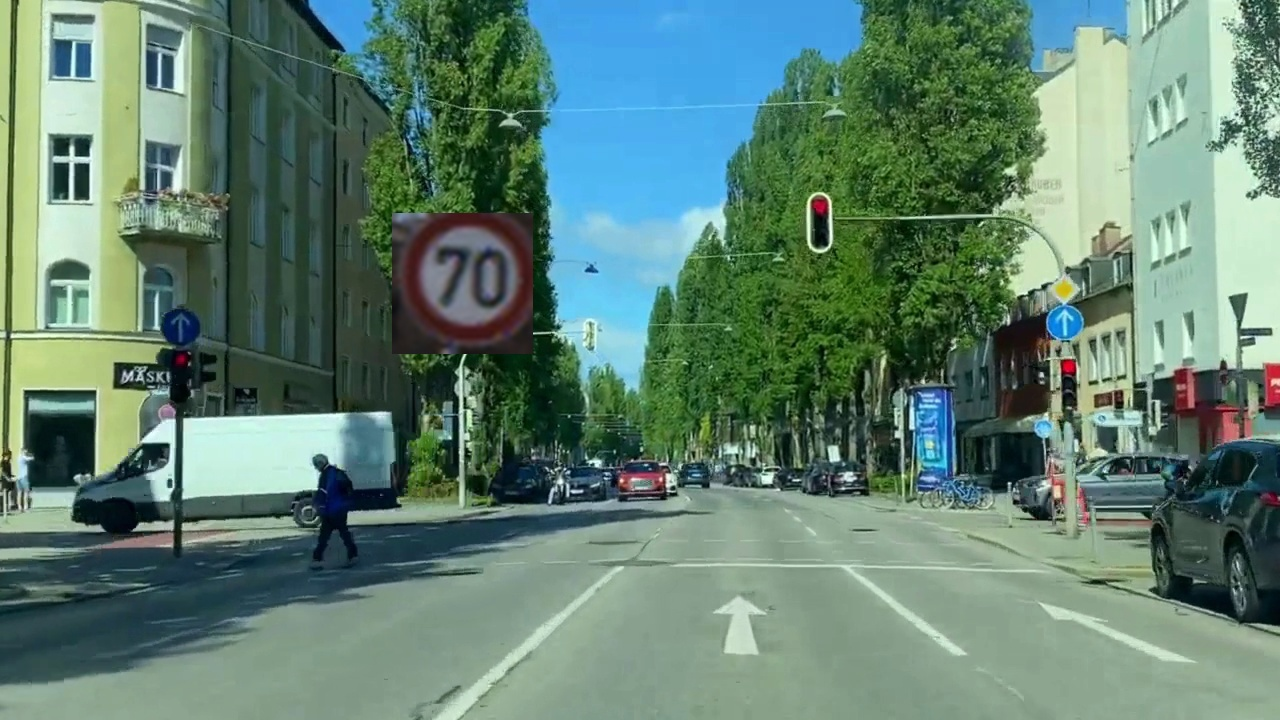Speed 70: (392, 213, 533, 354)
